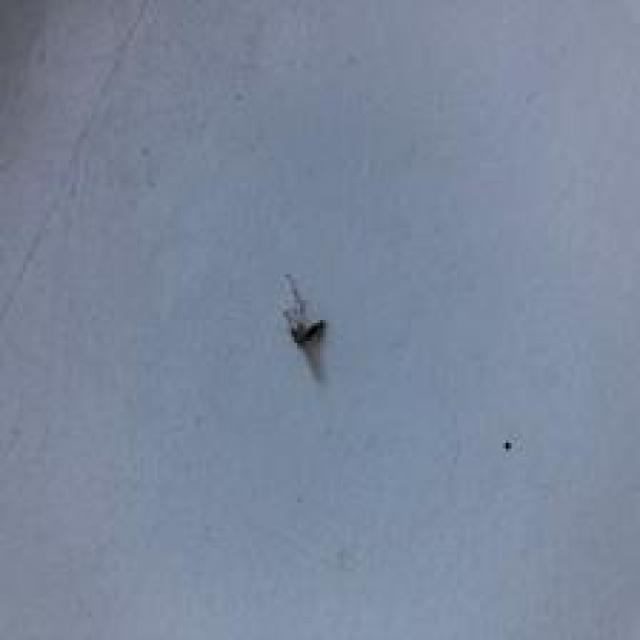Culex: (280, 271, 329, 383)
